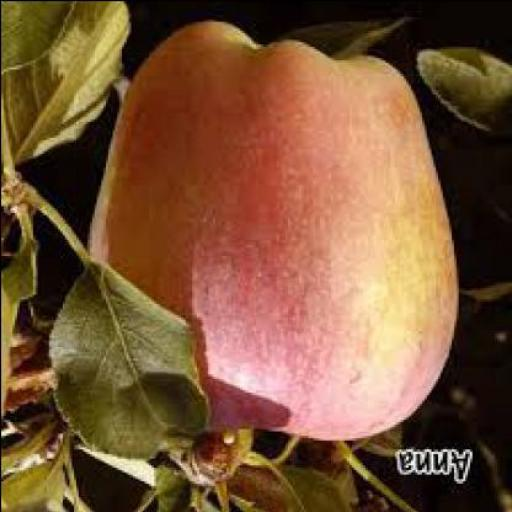biodegradable: (86, 18, 464, 444), (50, 255, 207, 466)
